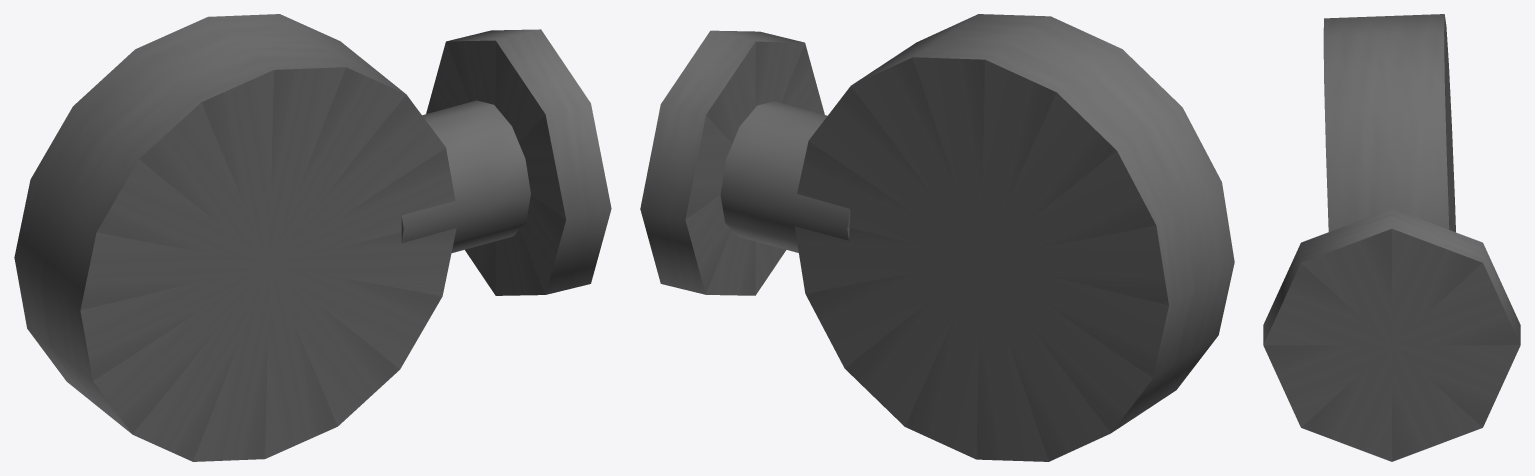
File: mastarmcurve_5x1_c5_east.obj
The picture shows the model from 3 angles, left to right: view 1: azimuth 30°, elevation 25°; view 2: azimuth 150°, elevation 25°; view 3: azimuth 270°, elevation 25°; orthographic projection. The views are drawn at different scales.
Visible parts, largest first — view 1: mastarm_5x1_c5_east; view 2: mastarm_5x1_c5_east; view 3: mastarm_5x1_c5_east.
Part boxes in pixels (x1,y1,x2,y2): mastarm_5x1_c5_east: (14, 14, 611, 461); mastarm_5x1_c5_east: (640, 14, 1234, 461); mastarm_5x1_c5_east: (1263, 14, 1520, 461).
Size of the model in its own units: 0.8094 by 0.627 by 0.4.
